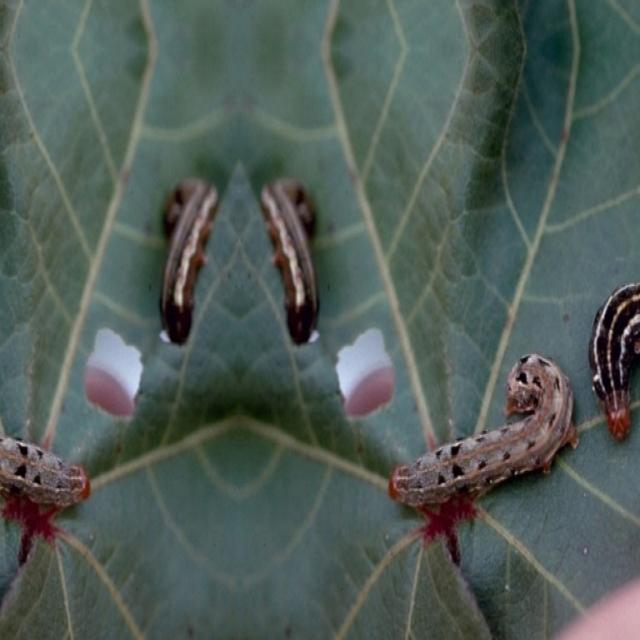armyworm: (388, 350, 579, 510), (259, 176, 320, 344), (158, 176, 218, 344), (588, 278, 639, 441), (0, 430, 91, 510)
